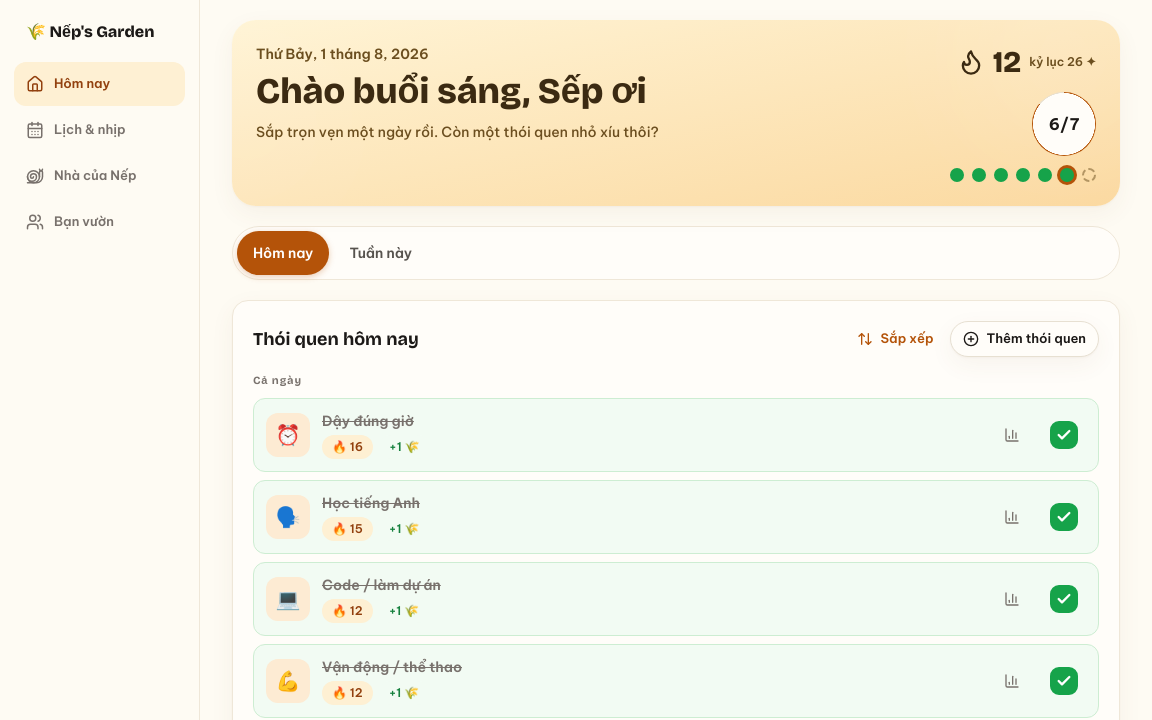
Test: the four spaces › opens a habit's detail overlay from the shell, then closes it
The width and height of the screenshot is (1152, 720).
Click the button named "Chi tiết thói quen Dậy đúng giờ" at (1012, 434), box [994,416,1030,452]
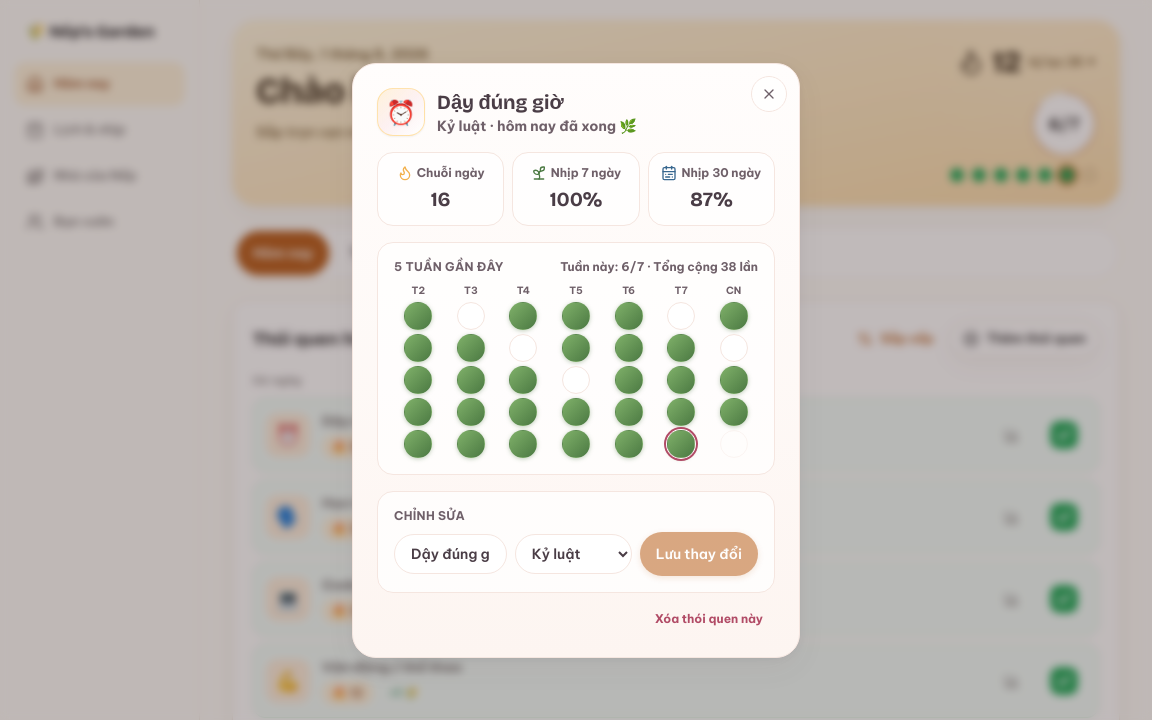
Expected: the heading "Dậy đúng giờ" is shown, [437,90,564,114]
Click the button named "Đóng chi tiết thói quen" at (769, 94), box [751,76,787,112]
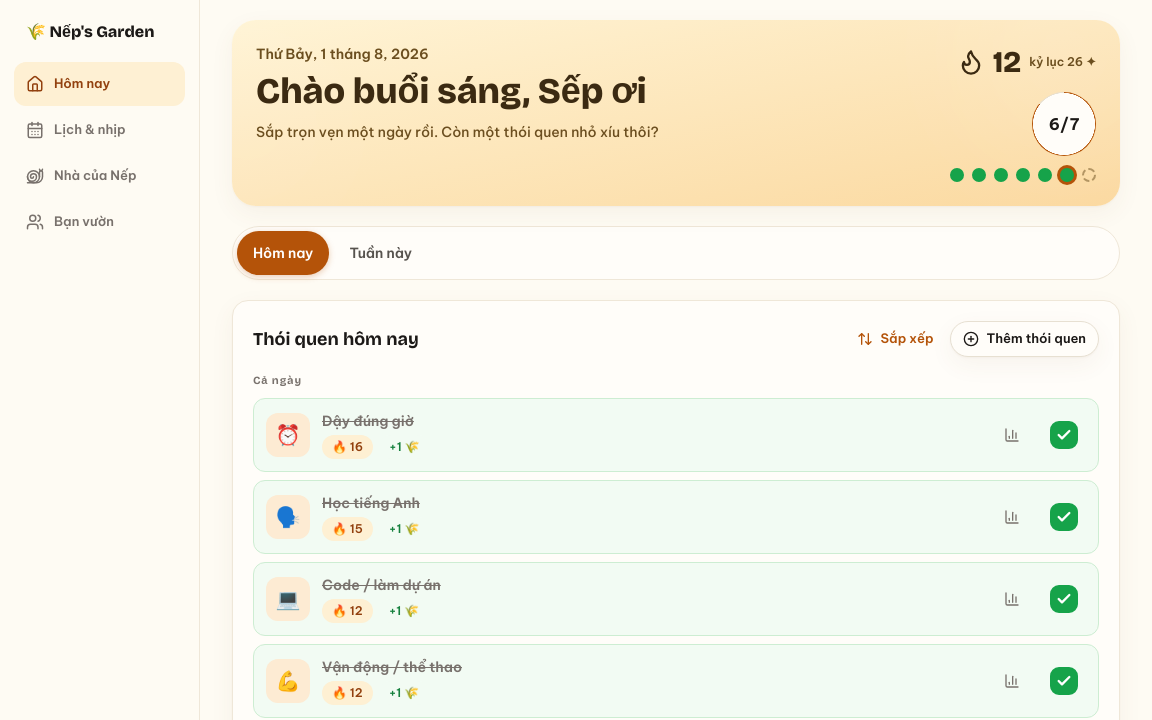
Expected: the dialog is gone
